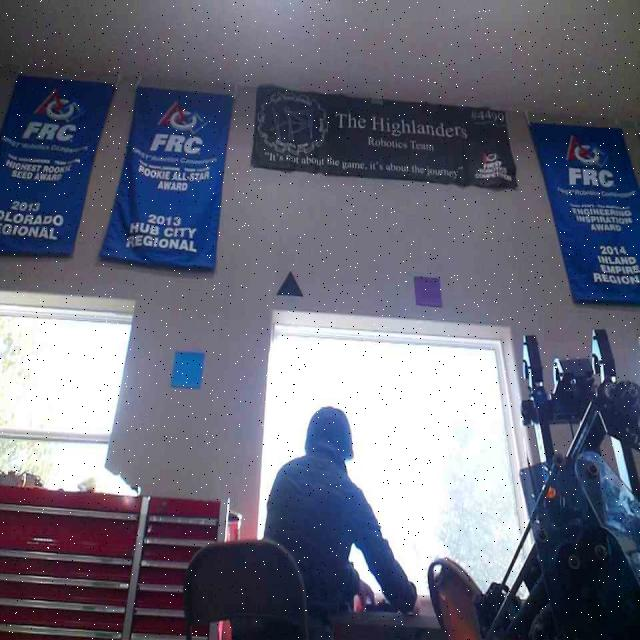square_blue: (169, 351, 206, 388)
square_purple: (410, 273, 443, 306)
triangle_black: (275, 269, 303, 296)
